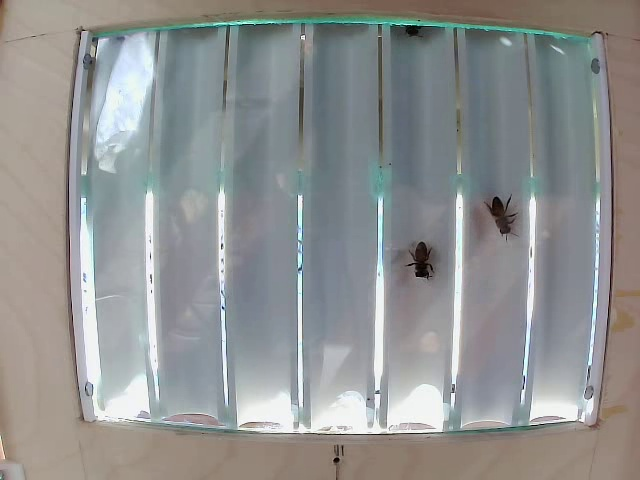bee: (483, 200, 512, 242), (413, 247, 441, 280)
